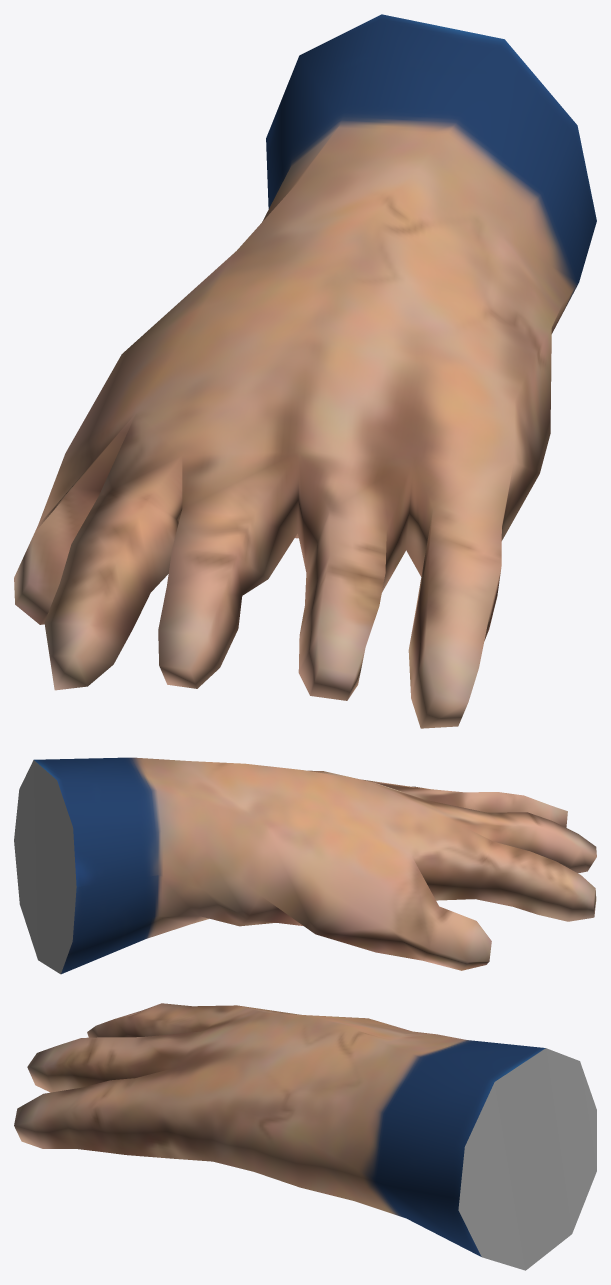
Rendered from gnome_lvl1_shatter_05.fbx.
The picture shows the model from 3 angles, top to bottom: view 1: azimuth 30°, elevation 25°; view 2: azimuth 150°, elevation 25°; view 3: azimuth 270°, elevation 25°; orthographic projection. The views are drawn at different scales.
Visible parts, largest first — view 1: polySurface5; view 2: polySurface5; view 3: polySurface5.
Boxes of the visible parts, x1,y1,x2,y2 form: polySurface5: (14, 14, 596, 728); polySurface5: (14, 757, 596, 974); polySurface5: (14, 1003, 596, 1270).
Bounding box in the file's own units: 4.19 × 1.78 × 4.4.
